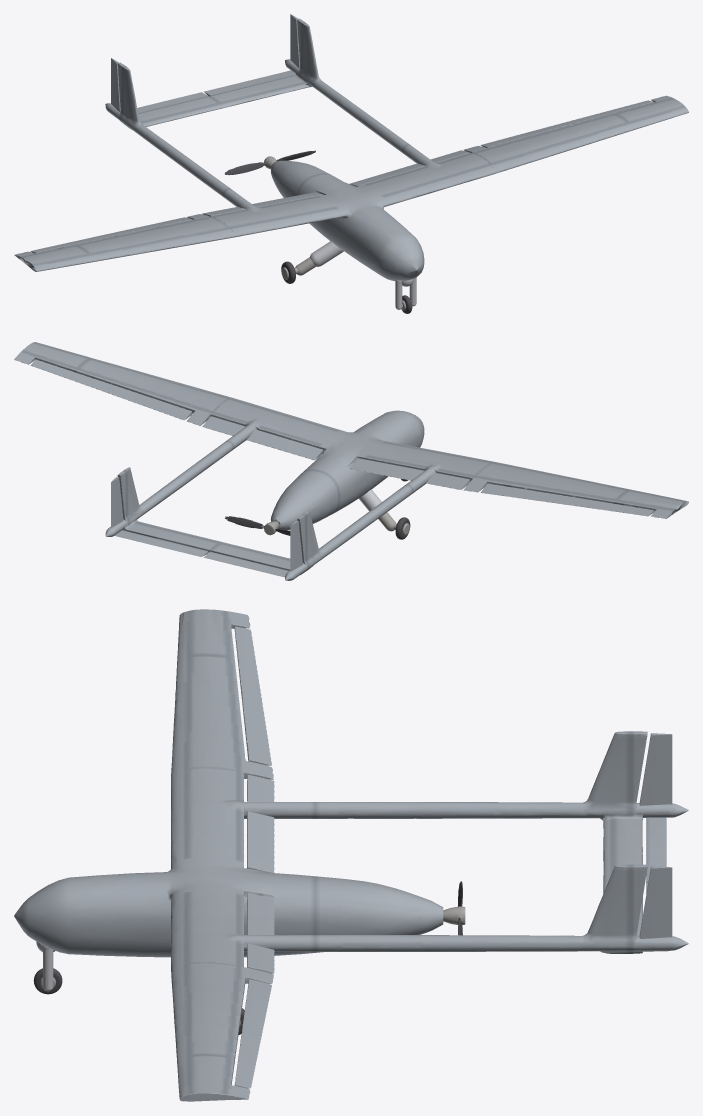
The model's file is skua.glb.
The picture shows the model from 3 angles, top to bottom: view 1: azimuth 30°, elevation 25°; view 2: azimuth 150°, elevation 25°; view 3: azimuth 270°, elevation 25°; orthographic projection. The views are drawn at different scales.
Visible parts, largest first — view 1: fsim:section:centre, fsim:section:left-wing, fsim:section:right-wing, fsim:section:tail, fsim:aileron (×2), fsim:flaps (×2), fsim:elevator (×2), fsim:propeller:0, Right Main Gear; view 2: fsim:section:centre, fsim:section:left-wing, fsim:section:right-wing, fsim:section:tail, fsim:aileron (×2), fsim:flaps (×2), fsim:elevator (×2), fsim:rudder (×2), fsim:propeller:0; view 3: fsim:section:centre, fsim:section:right-wing, fsim:section:left-wing, fsim:section:tail, fsim:aileron (×2), fsim:flaps (×2), fsim:rudder (×2), fsim:elevator.
Boxes of the visible parts, bbox=[...] form: fsim:section:centre: bbox=[163, 100, 424, 280]; fsim:section:left-wing: bbox=[362, 95, 688, 205]; fsim:section:right-wing: bbox=[14, 195, 346, 271]; fsim:section:tail: bbox=[105, 18, 350, 153]; fsim:aileron (×2): bbox=[30, 100, 653, 253]; fsim:flaps (×2): bbox=[202, 150, 469, 216]; fsim:elevator (×2): bbox=[137, 70, 295, 113]; fsim:propeller:0: bbox=[224, 150, 315, 175]; Right Main Gear: bbox=[310, 241, 343, 266]; fsim:section:centre: bbox=[164, 410, 424, 537]; fsim:section:left-wing: bbox=[14, 342, 343, 445]; fsim:section:right-wing: bbox=[363, 440, 688, 518]; fsim:section:tail: bbox=[105, 467, 353, 580]; fsim:aileron (×2): bbox=[30, 359, 653, 516]; fsim:flaps (×2): bbox=[202, 416, 469, 489]; fsim:elevator (×2): bbox=[114, 530, 288, 577]; fsim:rudder (×2): bbox=[111, 477, 302, 571]; fsim:propeller:0: bbox=[225, 516, 290, 535]; fsim:section:centre: bbox=[14, 802, 504, 957]; fsim:section:right-wing: bbox=[171, 609, 302, 866]; fsim:section:left-wing: bbox=[171, 885, 303, 1101]; fsim:section:tail: bbox=[491, 731, 688, 953]; fsim:aileron (×2): bbox=[234, 626, 271, 1088]; fsim:flaps (×2): bbox=[247, 775, 274, 973]; fsim:rudder (×2): bbox=[639, 733, 672, 938]; fsim:elevator: bbox=[646, 817, 666, 882].
Size of the model in its own units: 4 by 0.7501 by 2.36.
5 materials, 1 textured.
